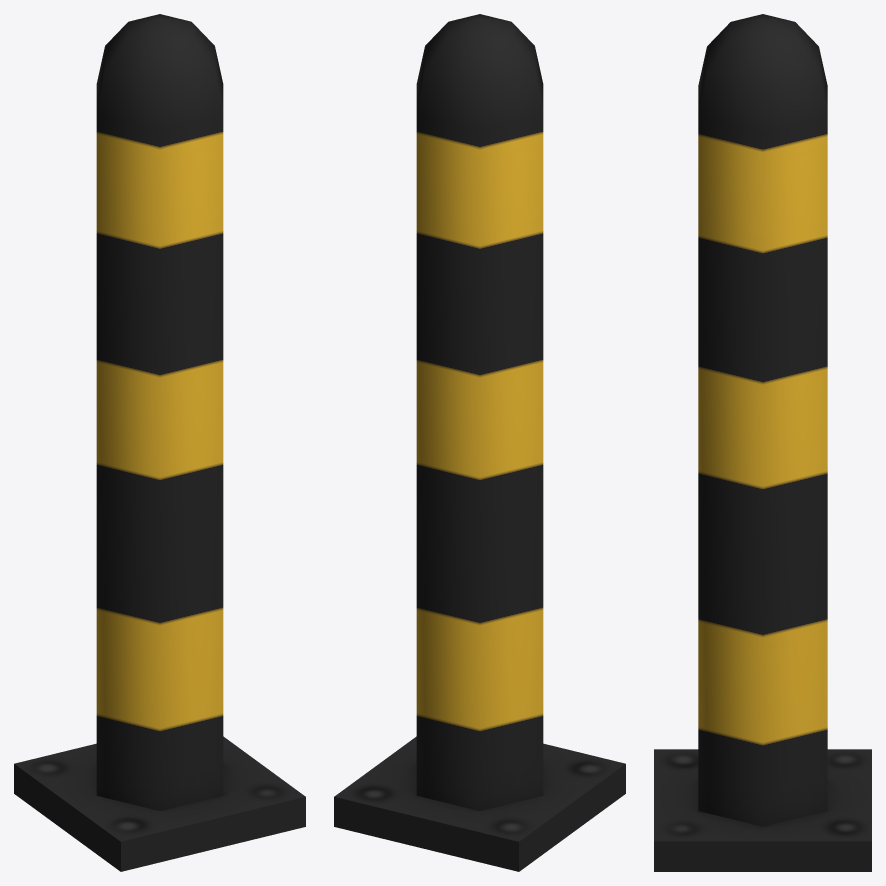
File: RailI.FBX
3 views of the same model, side by side, from view 1: azimuth 30°, elevation 25°; view 2: azimuth 150°, elevation 25°; view 3: azimuth 270°, elevation 25° (orthographic).
Parts seen in each view (by area): view 1: RailI; view 2: RailI; view 3: RailI.
Boxes of the visible parts, x1,y1,x2,y2 form: RailI: (14,14,305,871); RailI: (334,14,625,871); RailI: (654,14,871,871).
Size of the model in its own units: 0.2217 by 0.9068 by 0.2217.
Materials: 1 (1 with a texture image).
